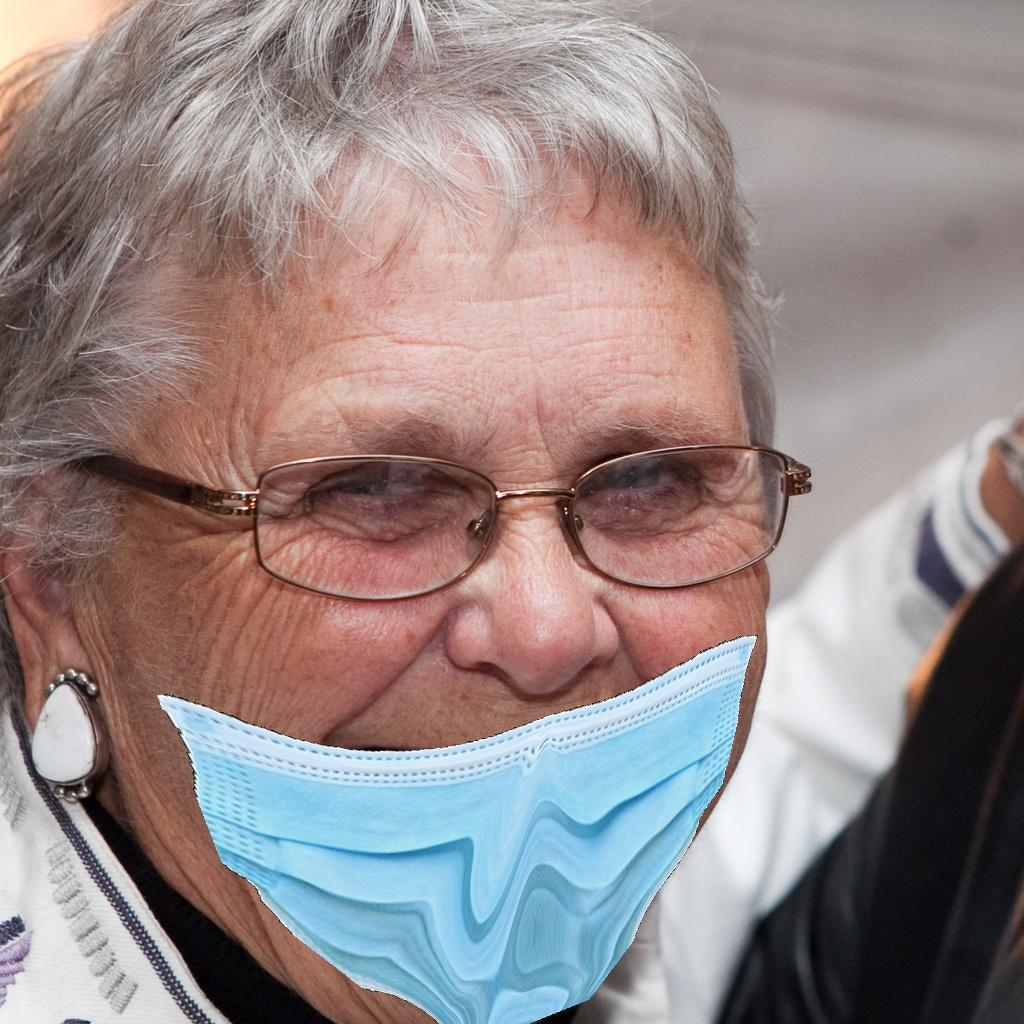Máscara Incorreta: (87, 335, 779, 979)
